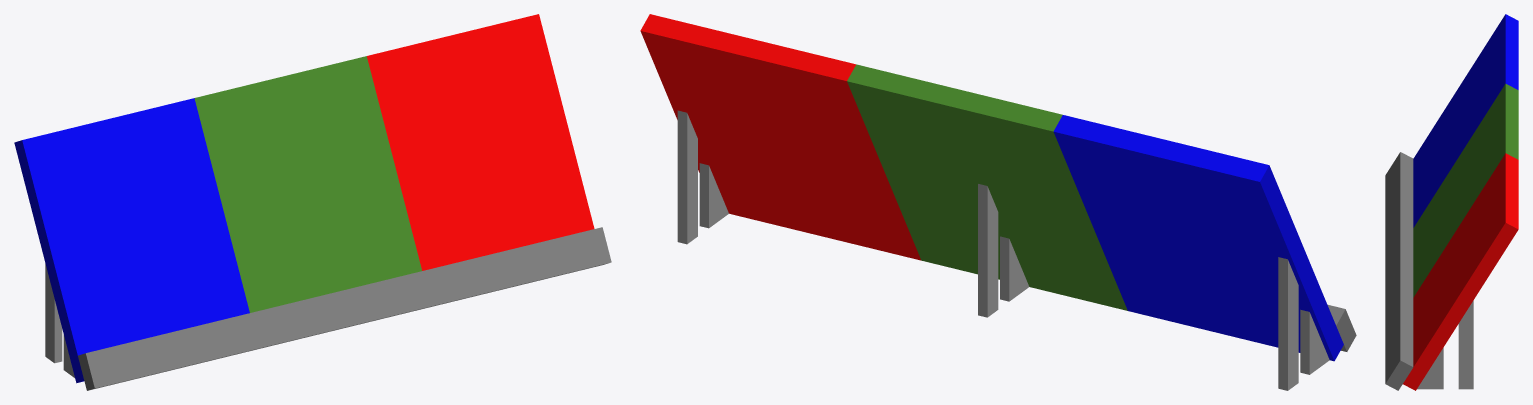
Rendered from gallerie.dae.
The picture shows the model from 3 angles, left to right: view 1: azimuth 30°, elevation 25°; view 2: azimuth 150°, elevation 25°; view 3: azimuth 270°, elevation 25°; orthographic projection. The views are drawn at different scales.
Visible parts, largest first — view 1: 6159d219776fab71b0c7daaf (×5); view 2: 6159d219776fab71b0c7daaf (×10); view 3: 6159d219776fab71b0c7daaf (×6).
Part boxes in pixels (box(x1,y1,x2,y2)): 6159d219776fab71b0c7daaf (×5): box(14, 14, 611, 390); 6159d219776fab71b0c7daaf (×10): box(640, 14, 1356, 390); 6159d219776fab71b0c7daaf (×6): box(1385, 14, 1518, 390).
Size of the model in its own units: 0.72 by 0.1945 by 0.2708.
